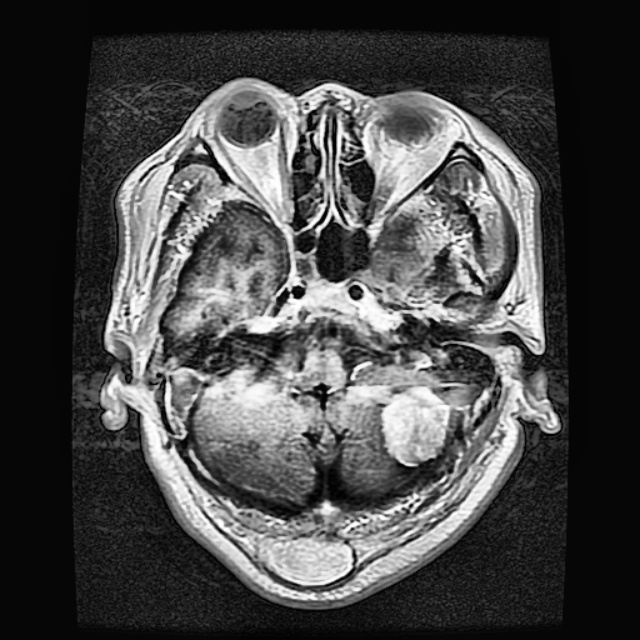Glioma: (377, 390, 444, 460)
